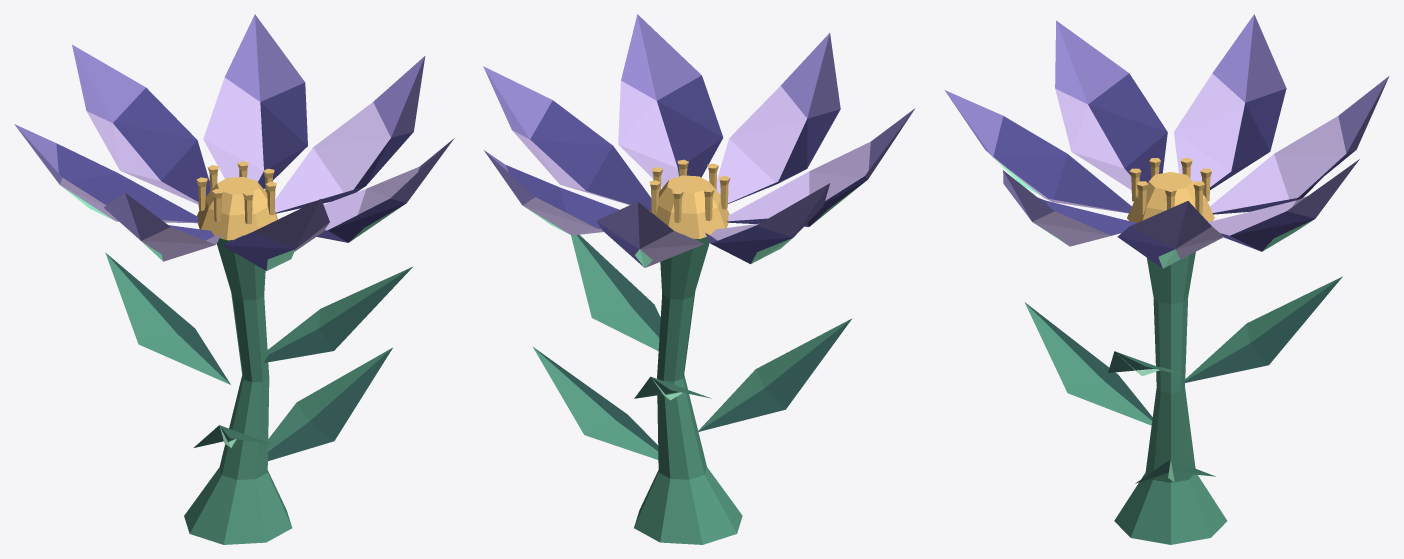
The model's file is nod-moon-bloom-model.obj.
3 renders of one model, left to right at view 1: azimuth 30°, elevation 25°; view 2: azimuth 150°, elevation 25°; view 3: azimuth 270°, elevation 25°, orthographic.
Visible parts, largest first — view 1: MoonFlower; view 2: MoonFlower; view 3: MoonFlower.
Boxes of the visible parts, left/top/right/bottom form: MoonFlower: left=14, top=14, right=454, bottom=544; MoonFlower: left=483, top=14, right=915, bottom=544; MoonFlower: left=944, top=14, right=1389, bottom=544.
Bounding box in the file's own units: 2.8 × 2.92 × 2.83.
